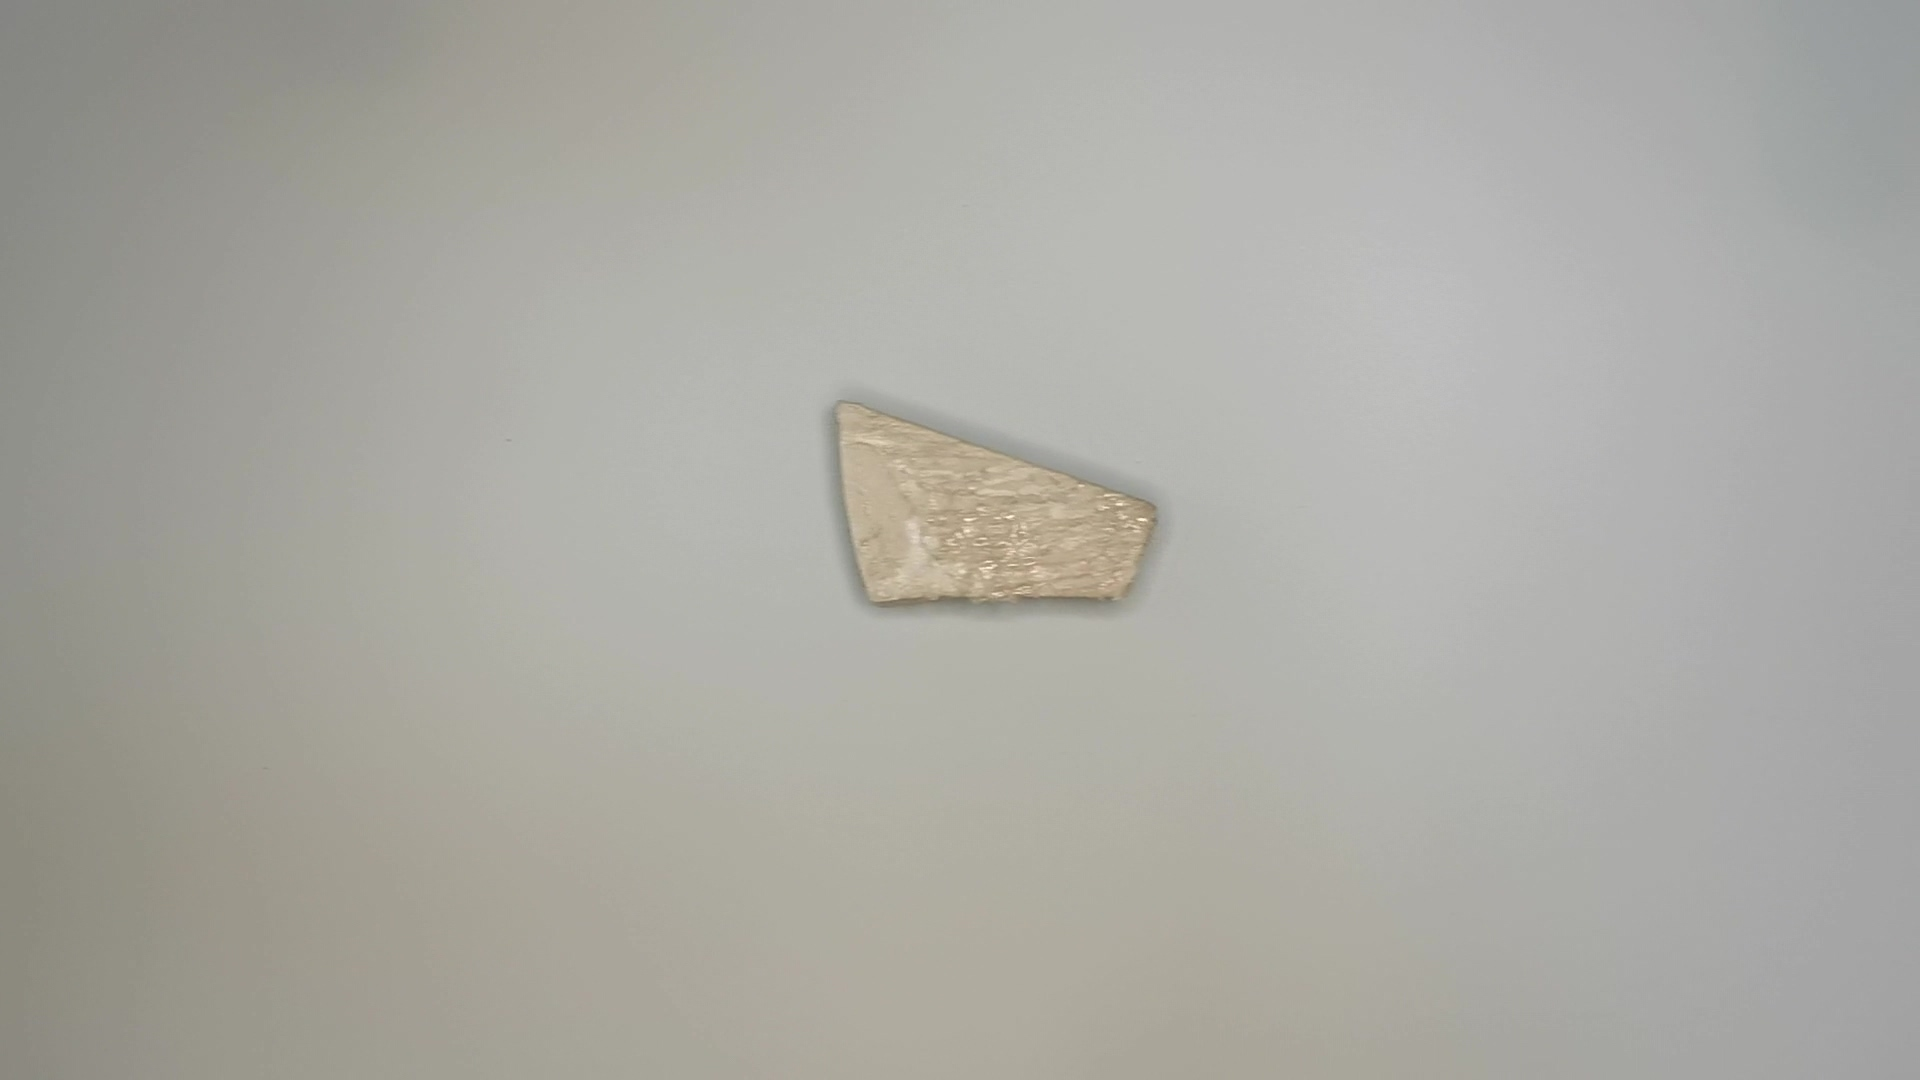ceramic: (825, 401, 1170, 630)
